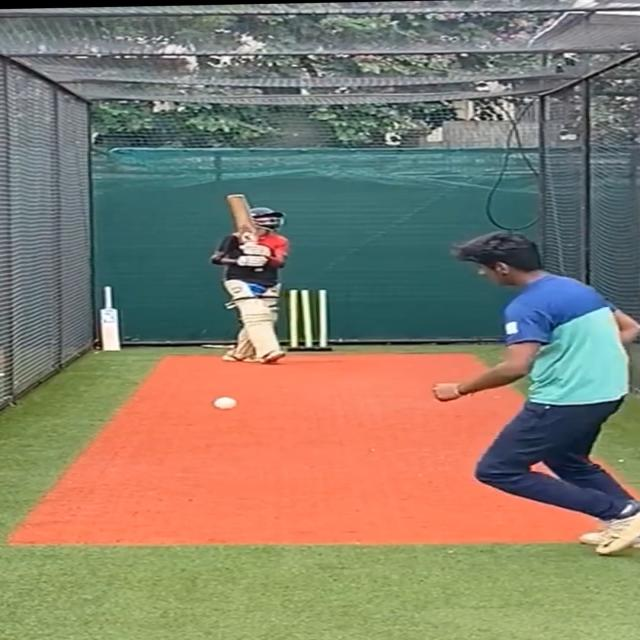ball: (206, 394, 239, 414)
stump: (281, 286, 332, 354)
